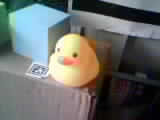duck: (47, 19, 104, 76)
